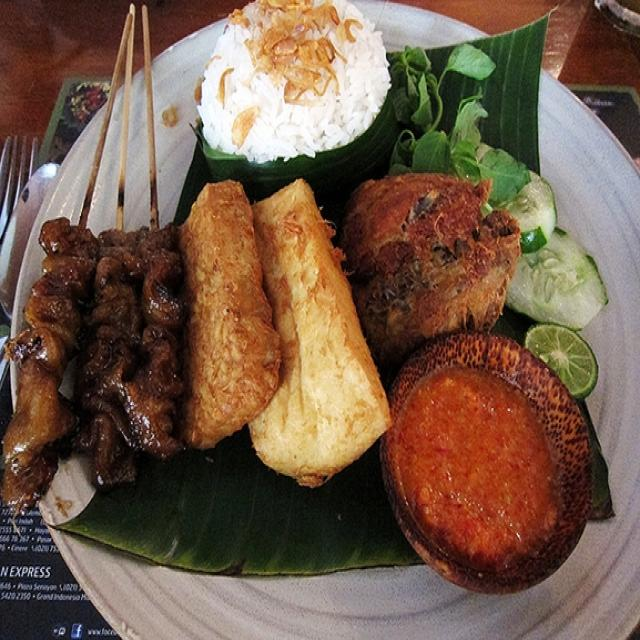米饭主食: (28, 15, 616, 612)
